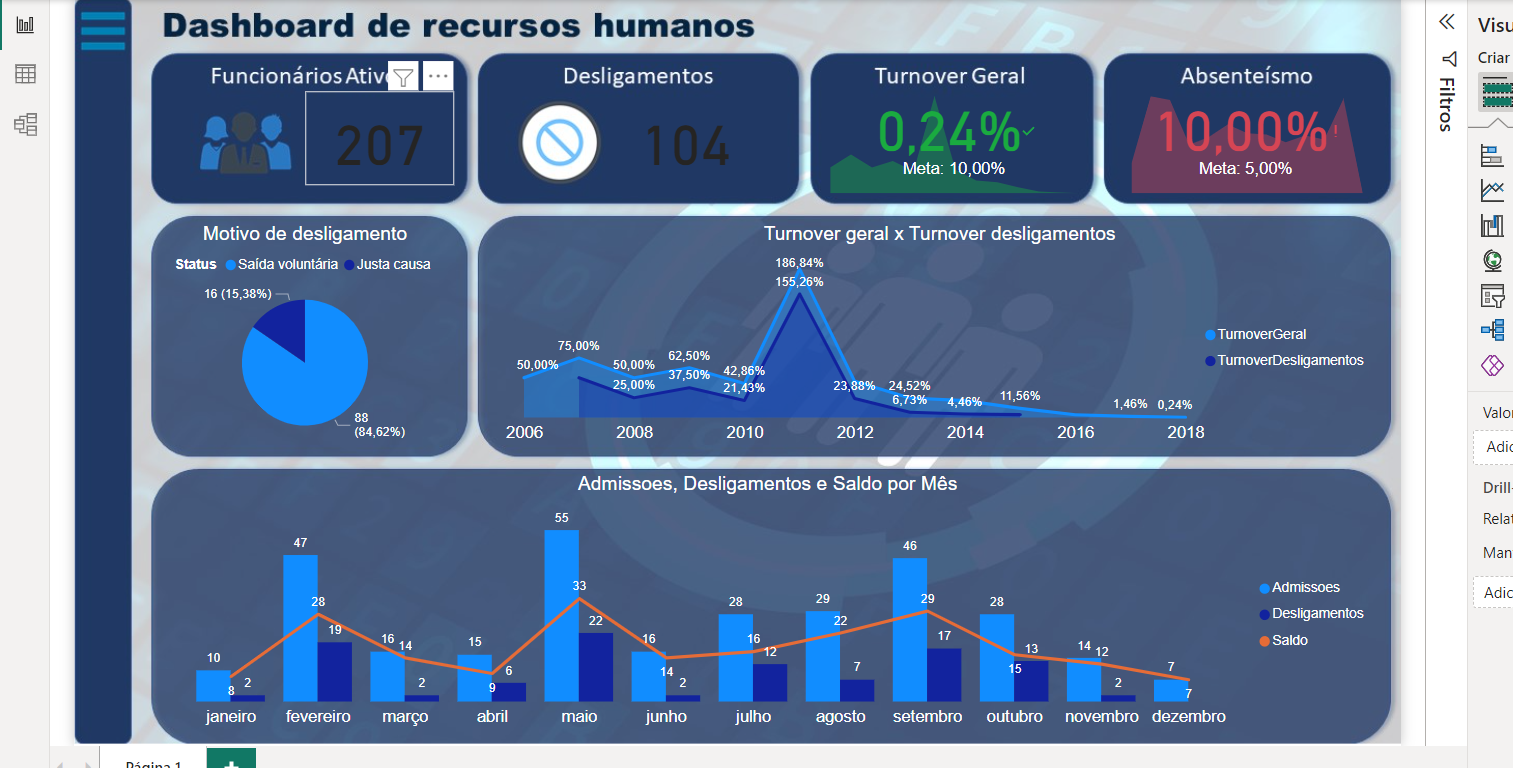

Layout of this report page (visuals, bound fields, positions):
{"tool":"powerbi","page":{"name":"Página 1","canvas":[1280,720],"ordinal":0},"visuals":[{"type":"pieChart","title":"Motivo de desligamento","fields":{"Category":["Tb_contratacoes.Status"],"Y":["CountNonNull(Tb_contratacoes.Status)"]},"box":[80.2,214.3,286.8,220.5],"z":0},{"type":"lineClusteredColumnComboChart","fields":{"Y":["Medidas.Admissoes","Medidas.Desligamentos"],"Y2":["Medidas.Saldo"],"Category":["Tb_contratacoes.DataContratacao.Variation.Hierarquia de datas.Mês"]},"box":[80.2,456.4,1179.4,252.8],"z":1000},{"type":"areaChart","title":"Turnover geral x Turnover desligamentos","fields":{"Category":["Tb_contratacoes.DataContratacao.Variation.Hierarquia de datas.Ano"],"Y":["Medidas.TurnoverGeral","Medidas.TurnoverDesligamentos"]},"box":[411.6,214.3,848,220.5],"z":2000},{"type":"card","fields":{"Values":["Medidas.FuncionariosAtivos"]},"box":[223.6,87.9,143.4,91],"z":3000},{"type":"card","fields":{"Values":["Medidas.Desligamentos"]},"box":[510.3,87.9,160.3,91],"z":4000},{"type":"kpi","fields":{"Indicator":["Medidas.TurnoverGeral"],"TrendLine":["Tb_contratacoes.DataContratacao.Variation.Hierarquia de datas.Ano"],"Goal":["Medidas.MetaTurnoverGeral"]},"box":[724.6,87.9,251.3,103.3],"z":5000},{"type":"kpi","fields":{"Indicator":["Medidas.Absenteismo"],"TrendLine":["Tb_contratacoes.DataContratacao.Variation.Hierarquia de datas.Ano"],"Goal":["Medidas.MetaAbsenteismo"]},"box":[1016,87.9,232.8,103.3],"z":6000}]}

Visuals, with their boxes in screenshot pixels (x1, y1, x2, y2):
"Motivo de desligamento" pieChart: [72, 202, 385, 443]
lineClusteredColumnComboChart - Medidas.Admissoes x Medidas.Desligamentos: [72, 466, 1359, 742]
"Turnover geral x Turnover desligamentos" areaChart: [433, 202, 1359, 443]
card - Medidas.FuncionariosAtivos: [228, 64, 385, 164]
card - Medidas.Desligamentos: [541, 64, 716, 164]
kpi - Medidas.TurnoverGeral x Tb_contratacoes.DataContratacao.Variation.Hierarquia de datas.Ano: [775, 64, 1049, 177]
kpi - Medidas.Absenteismo x Tb_contratacoes.DataContratacao.Variation.Hierarquia de datas.Ano: [1093, 64, 1347, 177]
